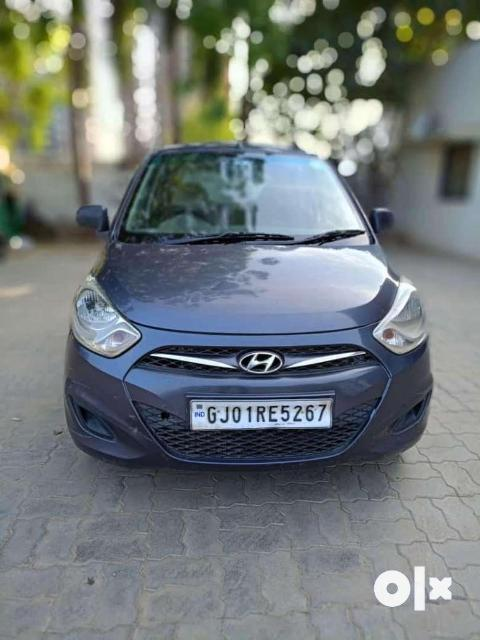Indian_Number_Plate: (190, 396, 333, 429)
